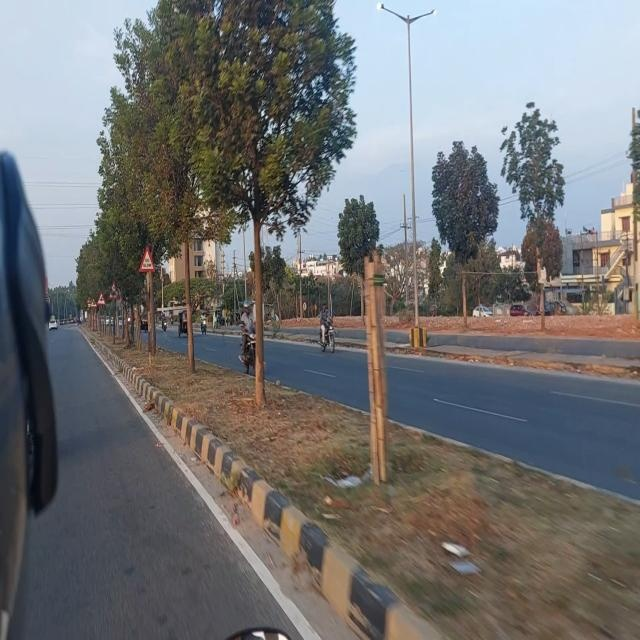bien_nguy_hiem: (138, 245, 154, 274)
